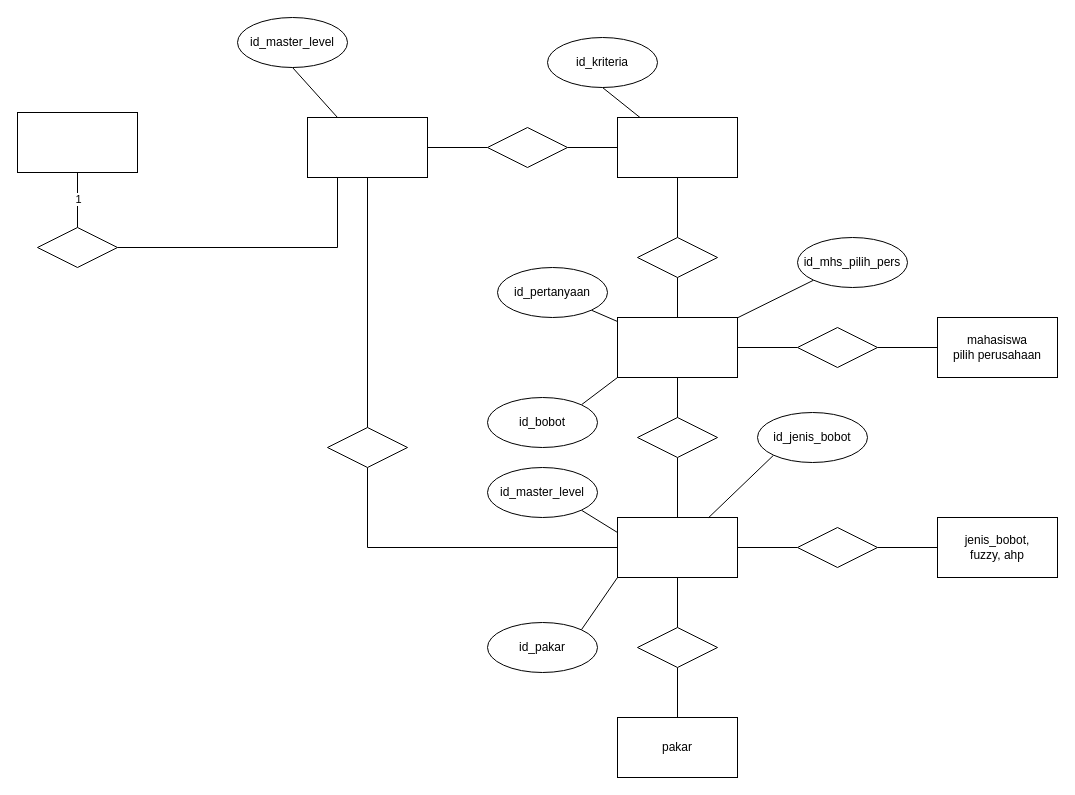
This 1075x795 diagram has some shape labels left out. Here are the shapes that lost their labels. From the top down, the centre of each, then its label:
At (77,142): "master_level".
At (367,147): "kriteria".
At (677,147): "pertanyaan".
At (677,347): "jawaban responder".
At (677,547): "bobot".
